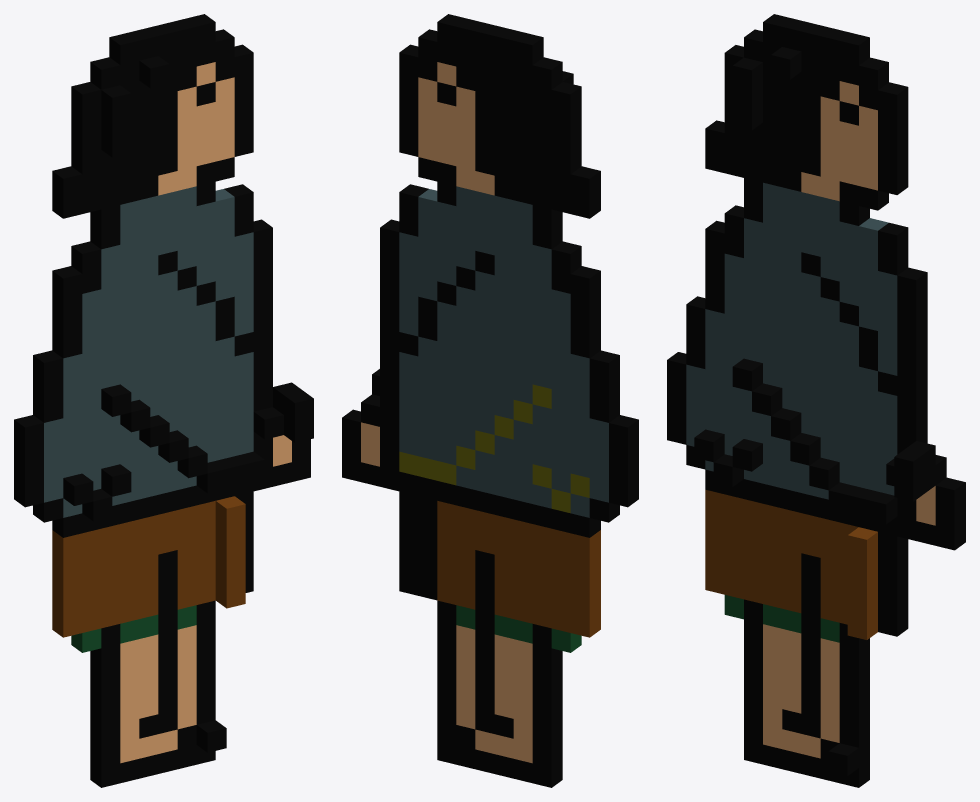
The model's file is TESTOWANIE_VOXELA-0.obj.
The picture shows the model from 3 angles, left to right: view 1: azimuth 30°, elevation 25°; view 2: azimuth 150°, elevation 25°; view 3: azimuth 330°, elevation 25°; orthographic projection.
Bounding box in the file's own units: 1.5 × 3.7 × 0.3.
1 material, 1 textured.
